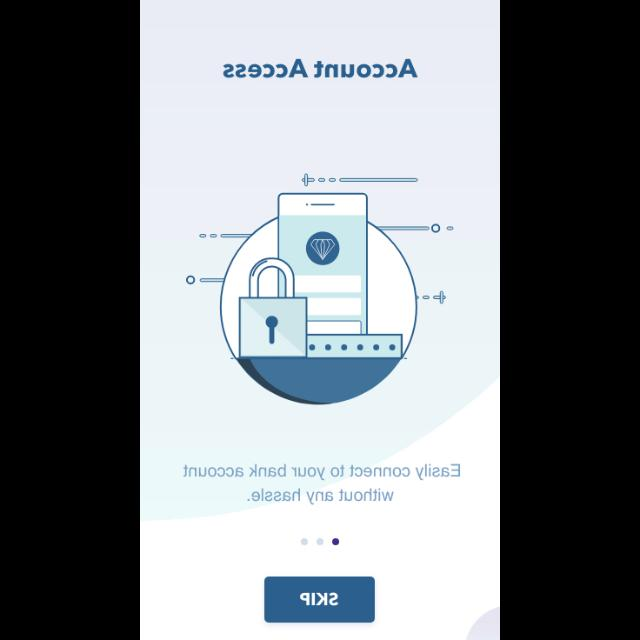image: (187, 174, 453, 406)
pageindicator: (300, 538, 340, 546)
text: (182, 463, 460, 505), (223, 59, 417, 79)
textbutton: (264, 577, 374, 623)
